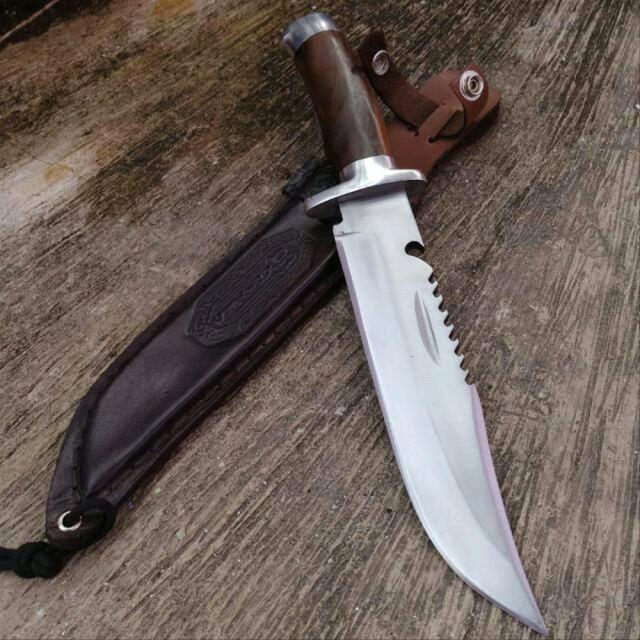Pisau: (292, 7, 563, 631)
